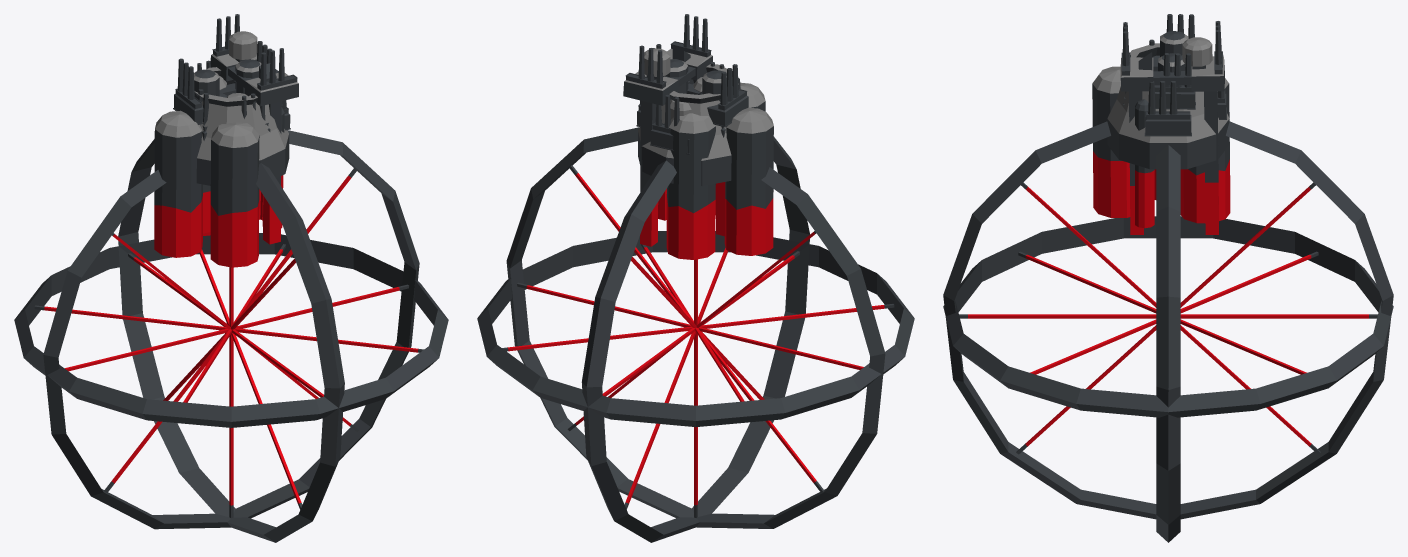
Rendered from Props.Planet.Factory.fbx.
3 renders of one model, left to right at view 1: azimuth 30°, elevation 25°; view 2: azimuth 150°, elevation 25°; view 3: azimuth 270°, elevation 25°, orthographic. The views are drawn at different scales.
Visible parts, largest first — view 1: Prop.Planet.Cage, Prop.Factory.003, Prop.Factory.000, Prop.Factory.001, Prop.Factory.002; view 2: Prop.Planet.Cage, Prop.Factory.003, Prop.Factory.001, Prop.Factory.000; view 3: Prop.Planet.Cage, Prop.Factory.003, Prop.Factory.000, Prop.Factory.002, Prop.Factory.001.
Part boxes in pixels (box(x1,y1,x2,y2)): Prop.Planet.Cage: box(14, 130, 448, 542); Prop.Factory.003: box(154, 14, 298, 267); Prop.Factory.000: box(194, 67, 289, 185); Prop.Factory.001: box(173, 41, 283, 219); Prop.Factory.002: box(198, 89, 290, 233); Prop.Planet.Cage: box(477, 127, 914, 542); Prop.Factory.003: box(623, 14, 773, 259); Prop.Factory.001: box(639, 44, 748, 236); Prop.Factory.000: box(638, 64, 738, 186); Prop.Planet.Cage: box(943, 121, 1393, 542); Prop.Factory.003: box(1092, 21, 1230, 234); Prop.Factory.000: box(1107, 43, 1229, 169); Prop.Factory.002: box(1135, 39, 1191, 228); Prop.Factory.001: box(1123, 14, 1226, 208).
Size of the model in its own units: 92328 by 114045 by 92074.
